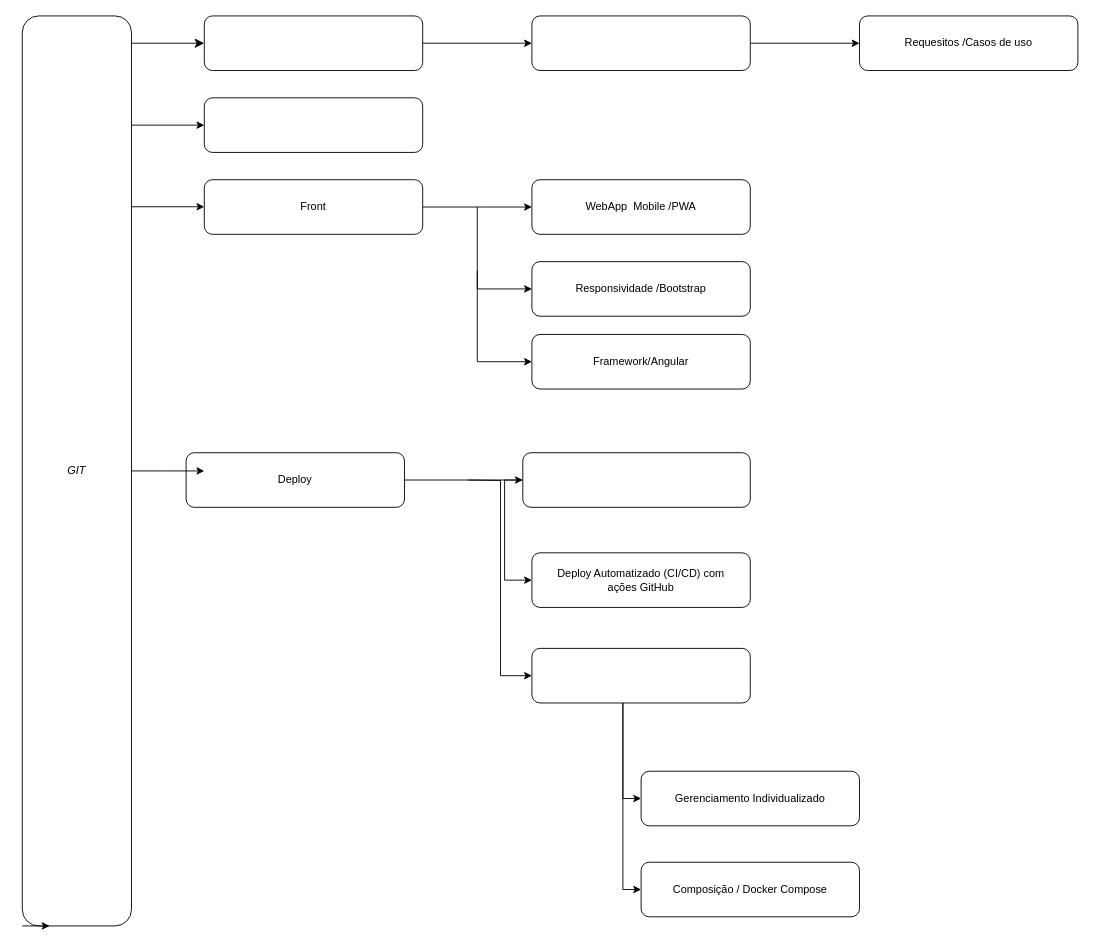
Some shapes in this 1094 by 949 pixel diagram are drawn without their labels. The centre of each missing label's shape, as x and y in pixels:
"API-Back-End / Java - SpringBoot" goes at point (313, 43).
"Banco de dados" goes at point (313, 124).
"Conteneres" goes at point (640, 675).
"Perfis de testes" goes at point (636, 479).
"Testes automatizados" goes at point (640, 43).
